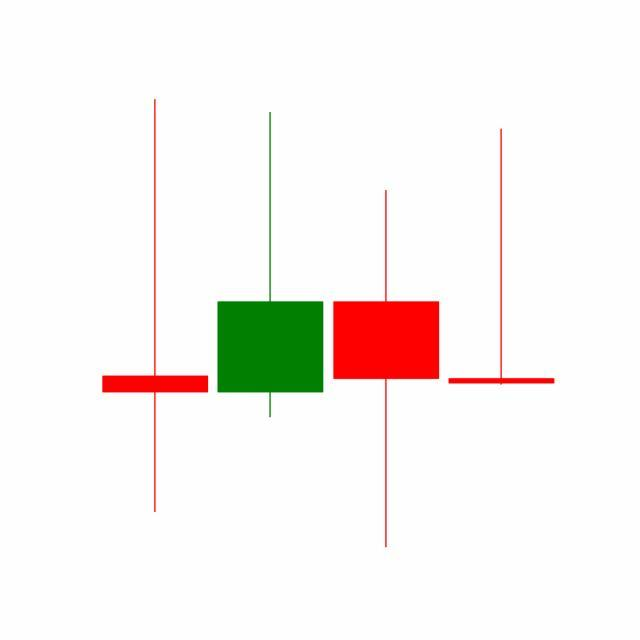Gravestone Doji: (444, 126, 560, 389)
